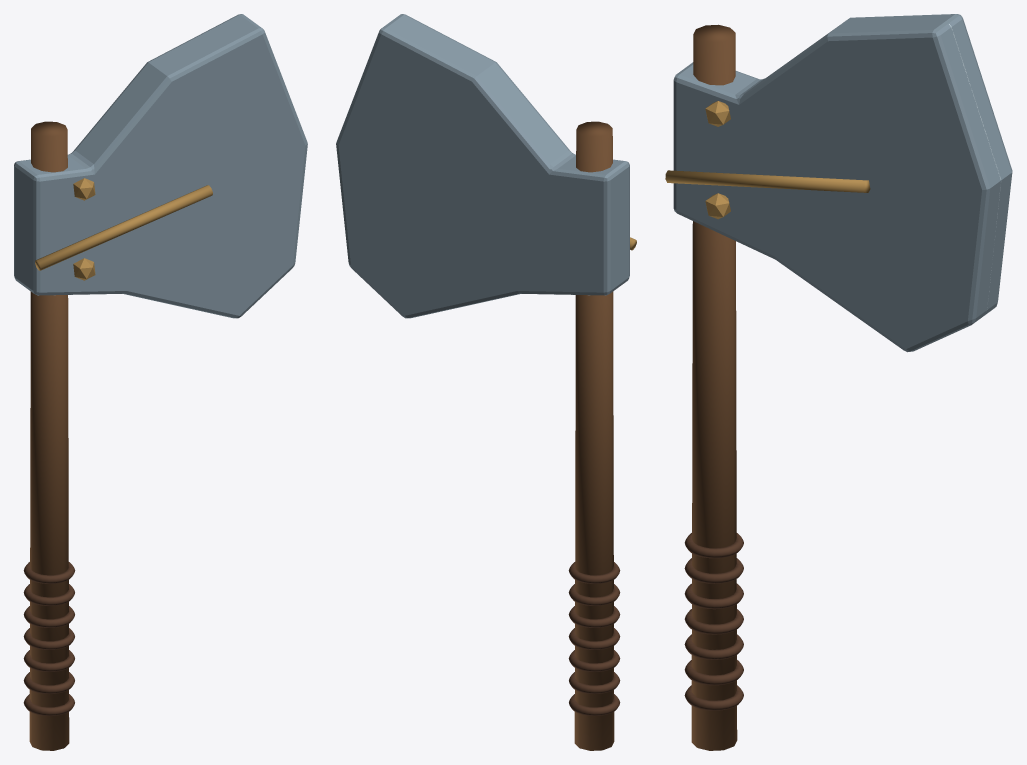
The model's file is WarriorAxe.glb.
The picture shows the model from 3 angles, left to right: view 1: azimuth 30°, elevation 25°; view 2: azimuth 150°, elevation 25°; view 3: azimuth 330°, elevation 25°; orthographic projection. The views are drawn at different scales.
Parts seen in each view (by area): view 1: Model.004; view 2: Model.004; view 3: Model.004.
Boxes of the visible parts, x1,y1,x2,y2 form: Model.004: (14,14,307,750); Model.004: (336,14,636,750); Model.004: (665,14,1012,750).
Size of the model in its own units: 0.4315 by 1.01 by 0.0925.
